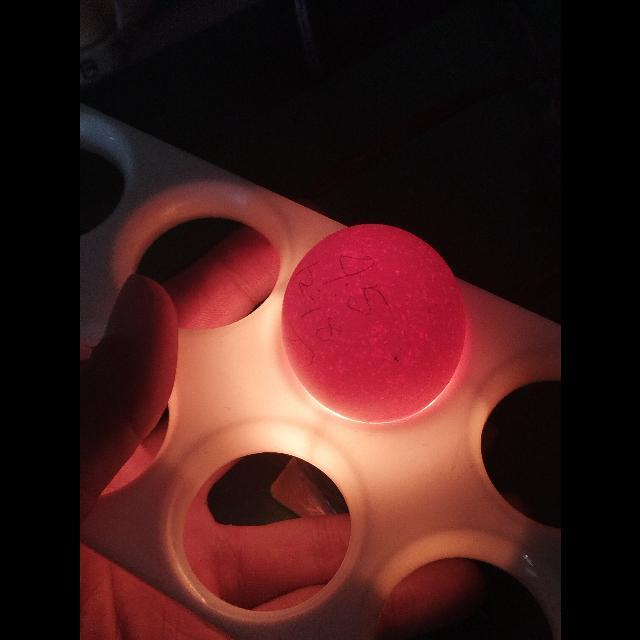Infertile: (280, 219, 472, 426)
